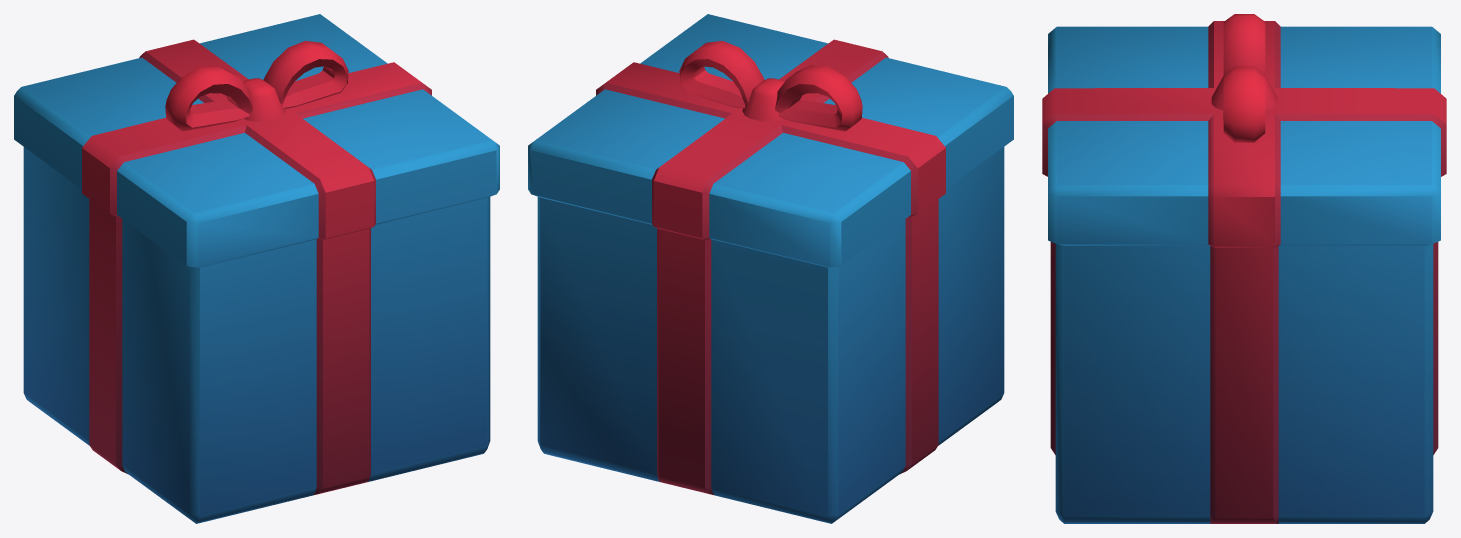
Rendered from present_D_blue.obj.
The picture shows the model from 3 angles, left to right: view 1: azimuth 30°, elevation 25°; view 2: azimuth 150°, elevation 25°; view 3: azimuth 270°, elevation 25°; orthographic projection. The views are drawn at different scales.
Visible parts, largest first — view 1: present_D_blue; view 2: present_D_blue; view 3: present_D_blue.
Boxes of the visible parts, x1,y1,x2,y2 form: present_D_blue: [14, 14, 499, 523]; present_D_blue: [528, 14, 1013, 523]; present_D_blue: [1042, 14, 1446, 523].
Bounding box in the file's own units: 0.9638 × 1.06 × 0.9638.
1 material, 1 textured.
